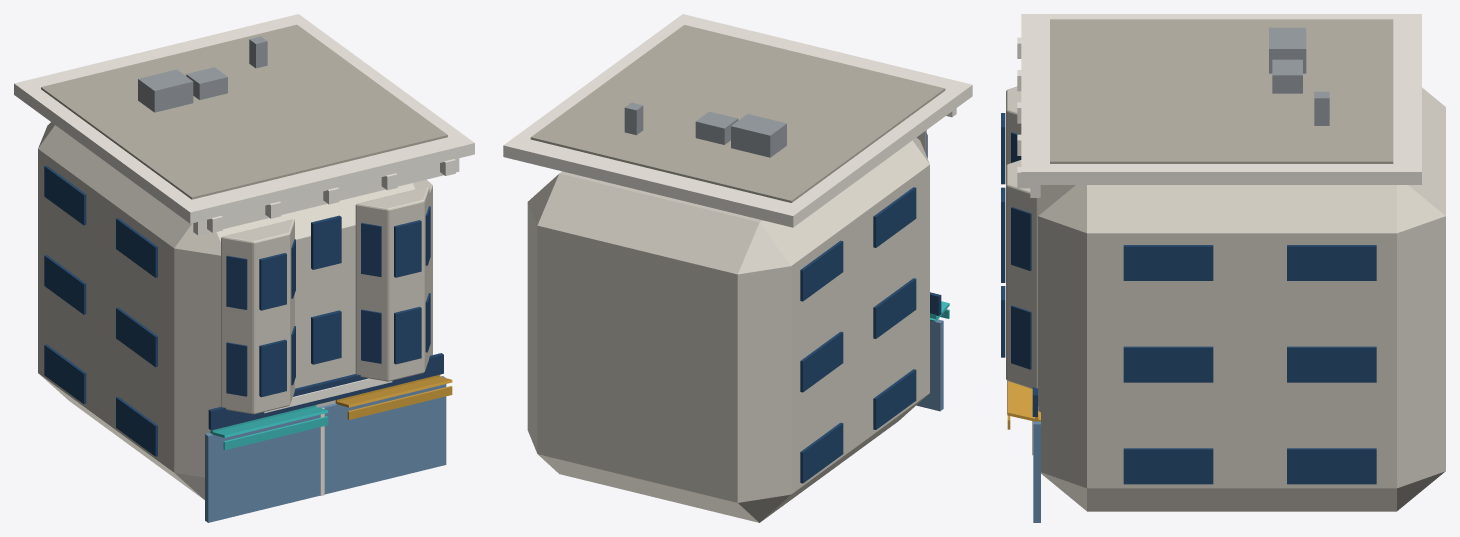
The model's file is mixed_w10_f3_bays.glb.
3 views of the same model, side by side, from view 1: azimuth 30°, elevation 25°; view 2: azimuth 150°, elevation 25°; view 3: azimuth 270°, elevation 25° (orthographic). The views are drawn at different scales.
Parts seen in each view (by area): view 1: walls, roofslab, shopglass, corn, bay.001, bay, frieze, fascia, hvac, cw, cw.001, bw.001 (+20 smaller); view 2: walls, roofslab, corn, hvac, sb.010, sb.004, sb.006, sb.008, sb, sb.002, shopglass, hvac2 (+1 smaller); view 3: walls, roofslab, corn, bay.001, sb.001, sb.005, sb.003, sb.007, sb.009, sb.011, hvac, bwa.007 (+6 smaller).
Boxes of the visible parts, x1,y1,x2,y2 form: walls: (38,122,432,499); roofslab: (41,24,447,199); shopglass: (205,376,446,522); corn: (14,14,474,223); bay.001: (355,186,429,381); bay: (221,219,294,414); frieze: (193,158,459,235); fascia: (208,353,443,430); hvac: (138,69,193,112); cw: (311,310,341,364); cw.001: (311,215,341,269); bw.001: (259,253,286,310); walls: (527,137,929,522); roofslab: (530,25,945,202); corn: (503,14,972,227); hvac: (731,114,786,157); sb.010: (800,240,843,301); sb.004: (873,278,916,338); sb.006: (800,331,843,392); sb.008: (873,187,916,247); sb: (873,369,916,429); sb.002: (800,422,843,483); shopglass: (916,319,943,411); hvac2: (695,111,738,144); walls: (1038,87,1445,511); roofslab: (1050,19,1393,163); corn: (1021,14,1421,184); bay.001: (1006,160,1037,388); sb.001: (1123,448,1213,484); sb.005: (1123,346,1213,382); sb.003: (1287,448,1376,484); sb.007: (1287,346,1376,382); sb.009: (1123,245,1213,280); sb.011: (1287,245,1376,280); hvac: (1269,27,1306,73); bwa.007: (1011,207,1031,270).
Size of the model in its own units: 11 by 12.8 by 13.09.
